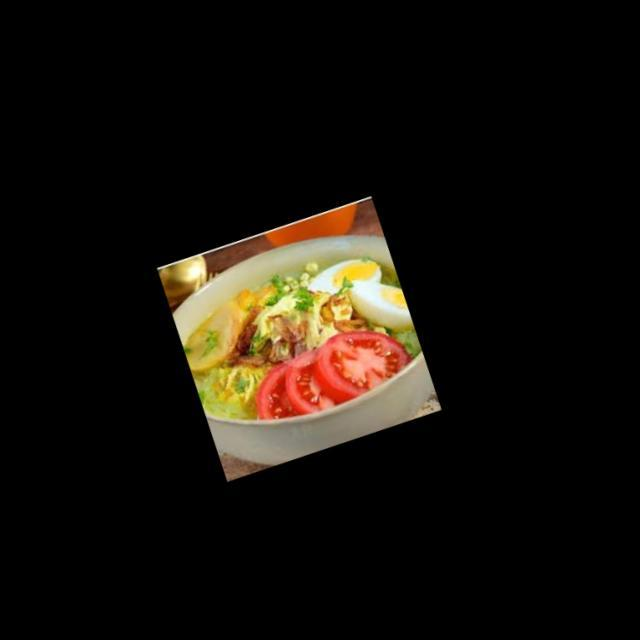Soto: (164, 255, 417, 454)
